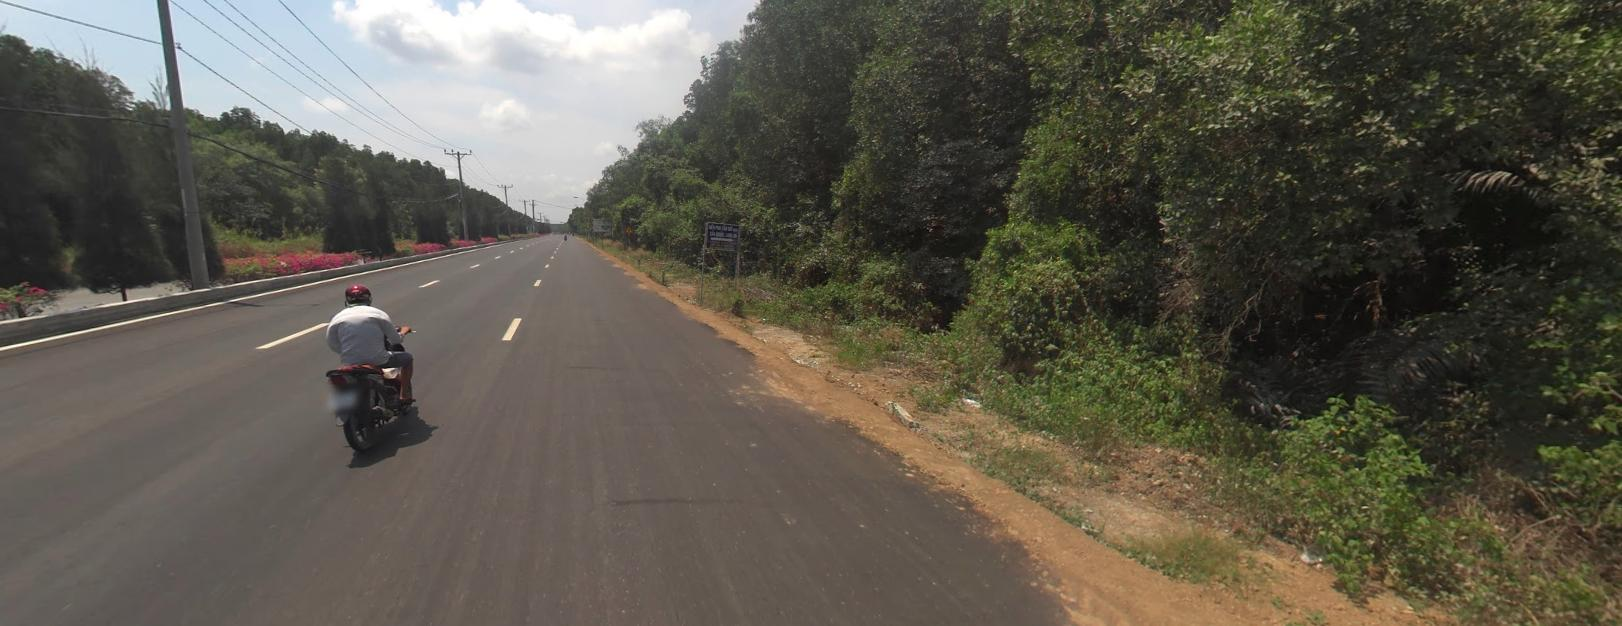Nguy hiem: (625, 223, 633, 231)
